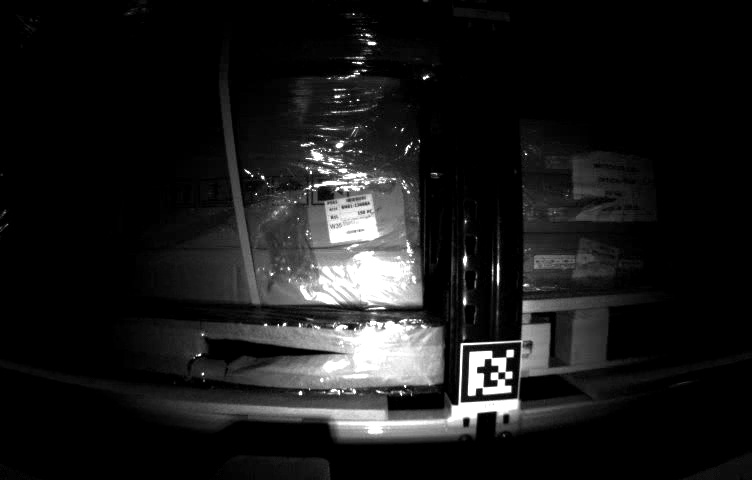True Barcode: (322, 193, 379, 242), (571, 236, 615, 284)
